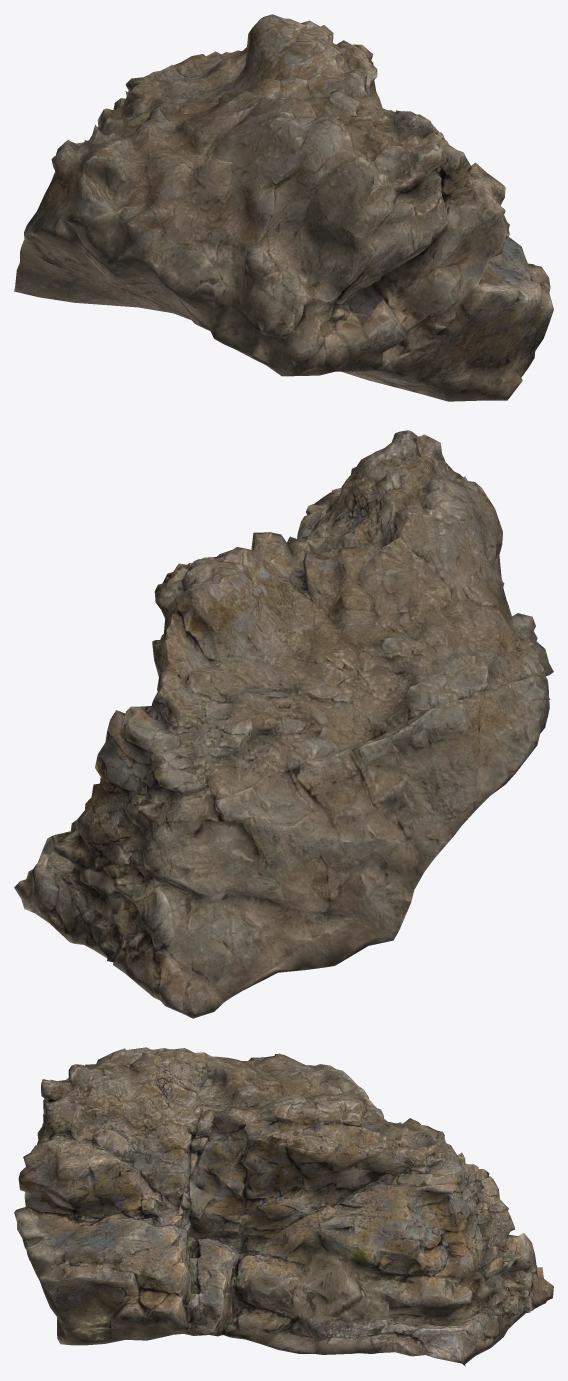
Rendered from boulder_01.glb.
3 renders of one model, top to bottom at view 1: azimuth 30°, elevation 25°; view 2: azimuth 150°, elevation 25°; view 3: azimuth 270°, elevation 25°, orthographic. The views are drawn at different scales.
Visible parts, largest first — view 1: boulder_01_lod0; view 2: boulder_01_lod0; view 3: boulder_01_lod0.
Boxes of the visible parts, x1=… form: boulder_01_lod0: x1=14, y1=14, x2=553, y2=401; boulder_01_lod0: x1=14, y1=430, x2=553, y2=1018; boulder_01_lod0: x1=14, y1=1047, x2=553, y2=1366.
Size of what is drawn, in the model's own units: 1.27 by 1 by 1.83.
Materials: 1 (1 with a texture image).
